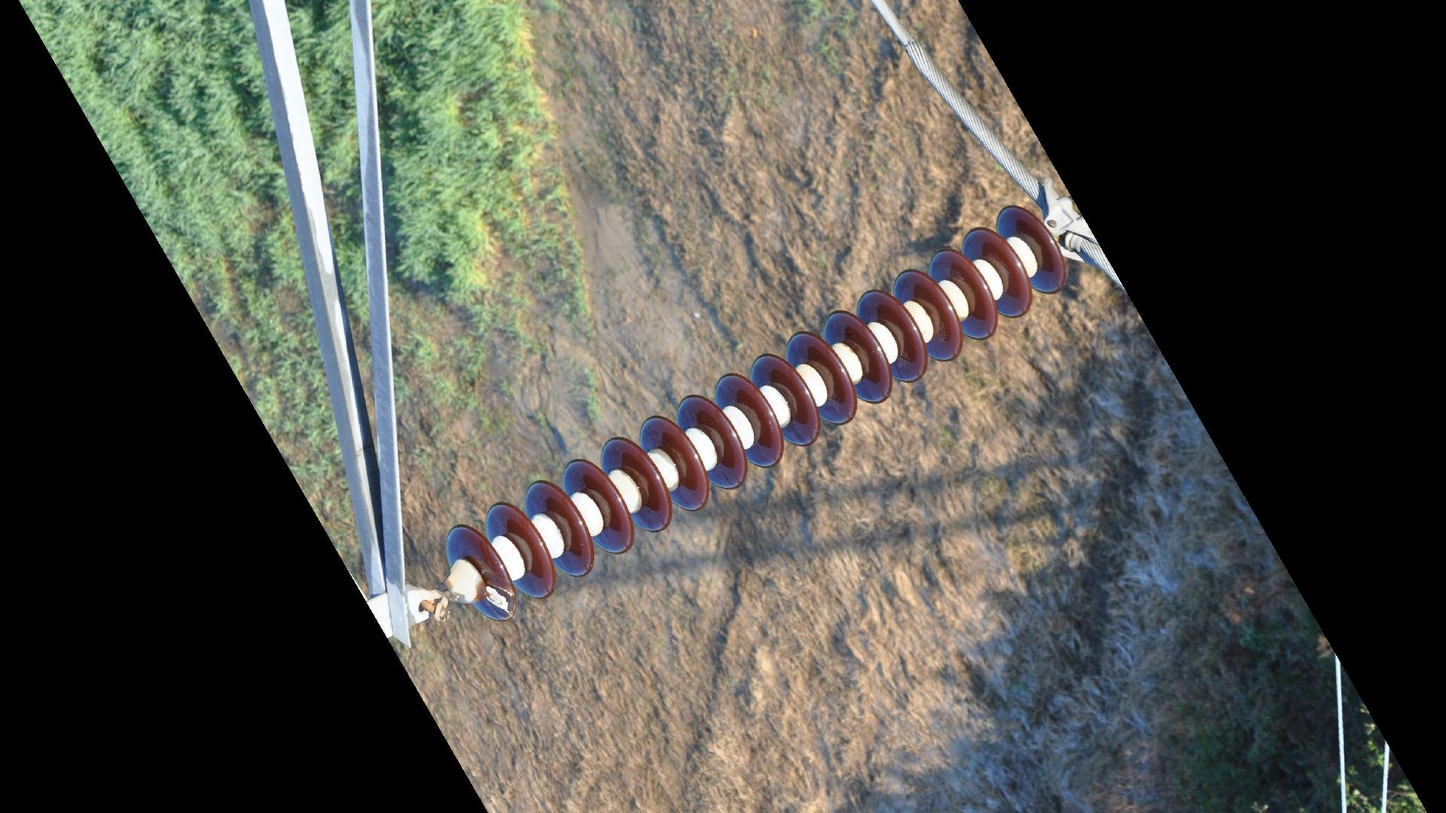insulator: (442, 201, 1072, 623)
insulator_flashover: (483, 582, 518, 618)
